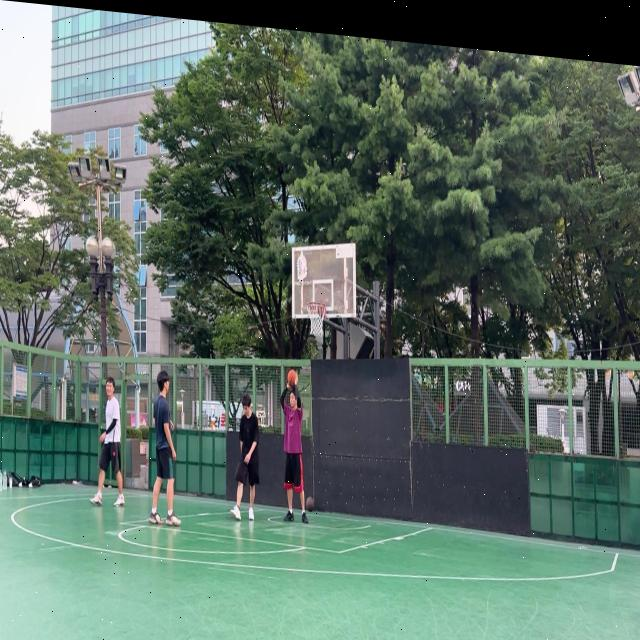basketball: (288, 368, 298, 387), (306, 495, 315, 513)
hoop: (306, 300, 327, 338)
